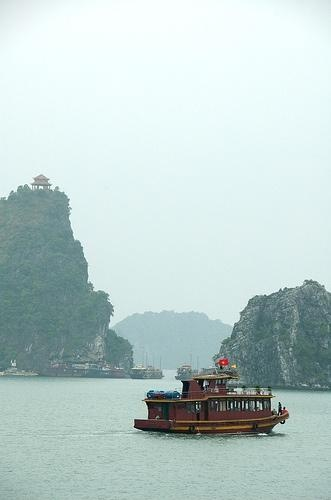boat: (130, 359, 289, 440), (173, 366, 219, 381), (129, 366, 166, 380)
